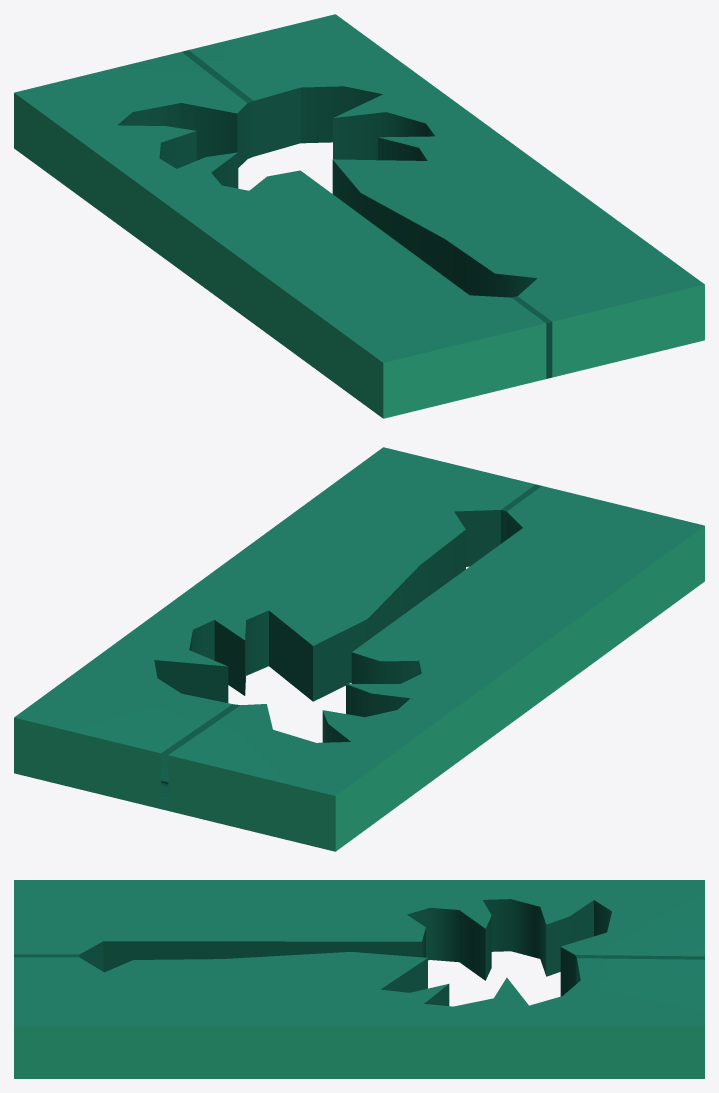
The model's file is BlizzardBeachPalmShutter.fbx.
3 renders of one model, top to bottom at view 1: azimuth 30°, elevation 25°; view 2: azimuth 150°, elevation 25°; view 3: azimuth 270°, elevation 25°, orthographic. The views are drawn at different scales.
Parts seen in each view (by area): view 1: BlizzardBeachPalmShutter; view 2: BlizzardBeachPalmShutter; view 3: BlizzardBeachPalmShutter.
Part boxes in pixels (x1=…): BlizzardBeachPalmShutter: x1=14, y1=14, x2=704, y2=418; BlizzardBeachPalmShutter: x1=14, y1=447, x2=704, y2=851; BlizzardBeachPalmShutter: x1=14, y1=880, x2=704, y2=1078.
Bounding box in the file's own units: 52.24 × 8.66 × 104.
